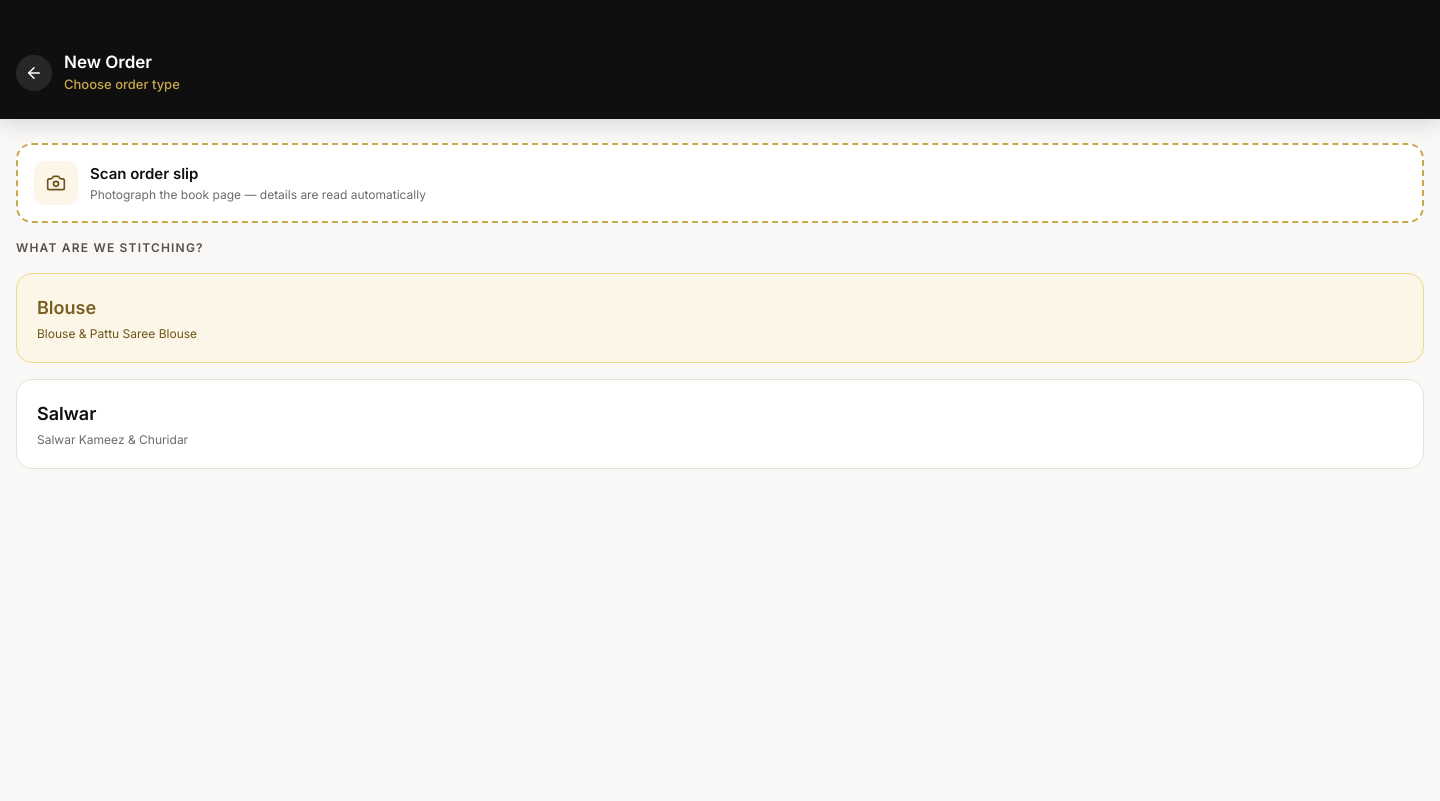
Test: NewOrderWizard › switches back to customer-supplied fabric details after visiting the shop picker
Click the text "Blouse" at (67, 307), box x1=37 y1=297 x2=96 y2=318
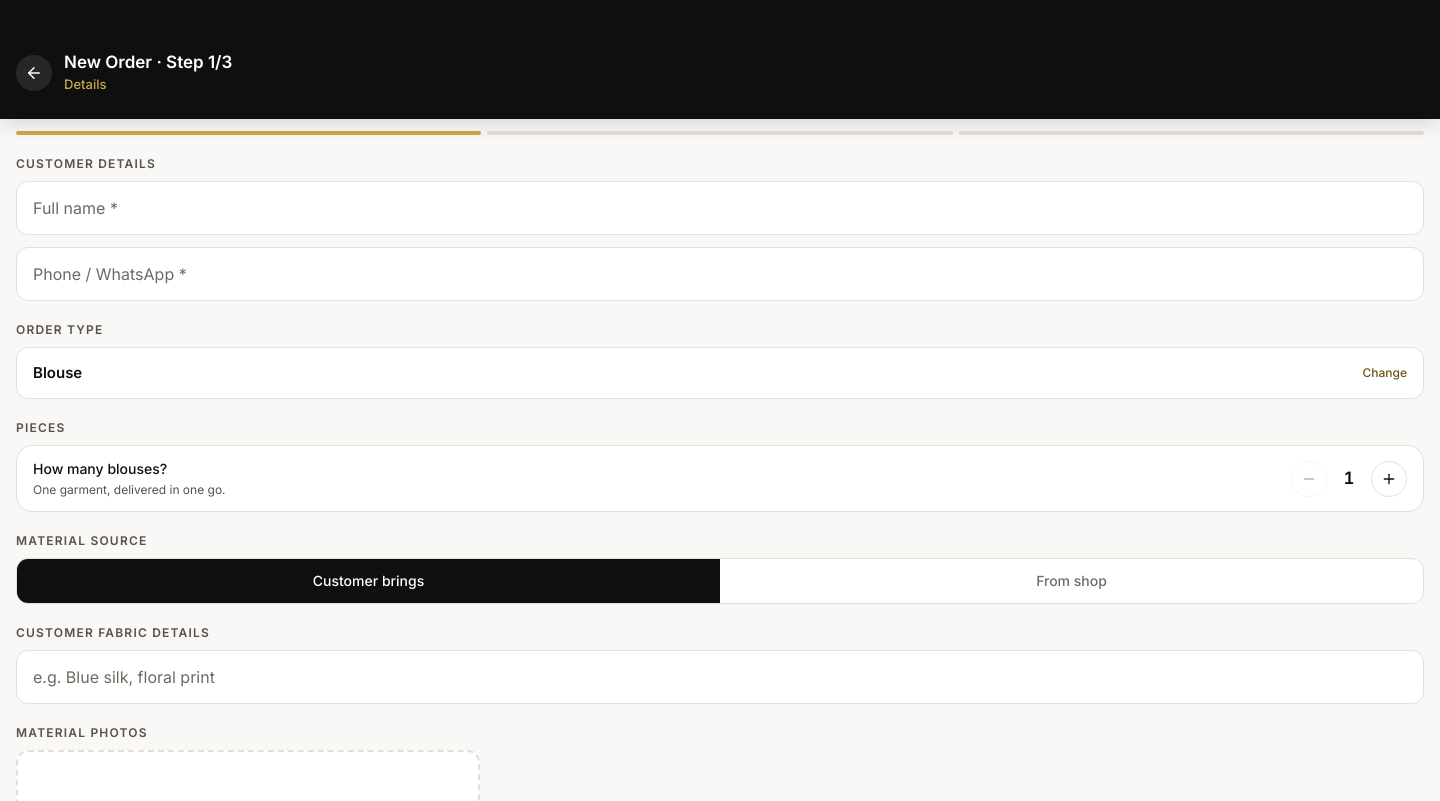
Click the button "From shop" at (1072, 581), box x1=720 y1=559 x2=1423 y2=603
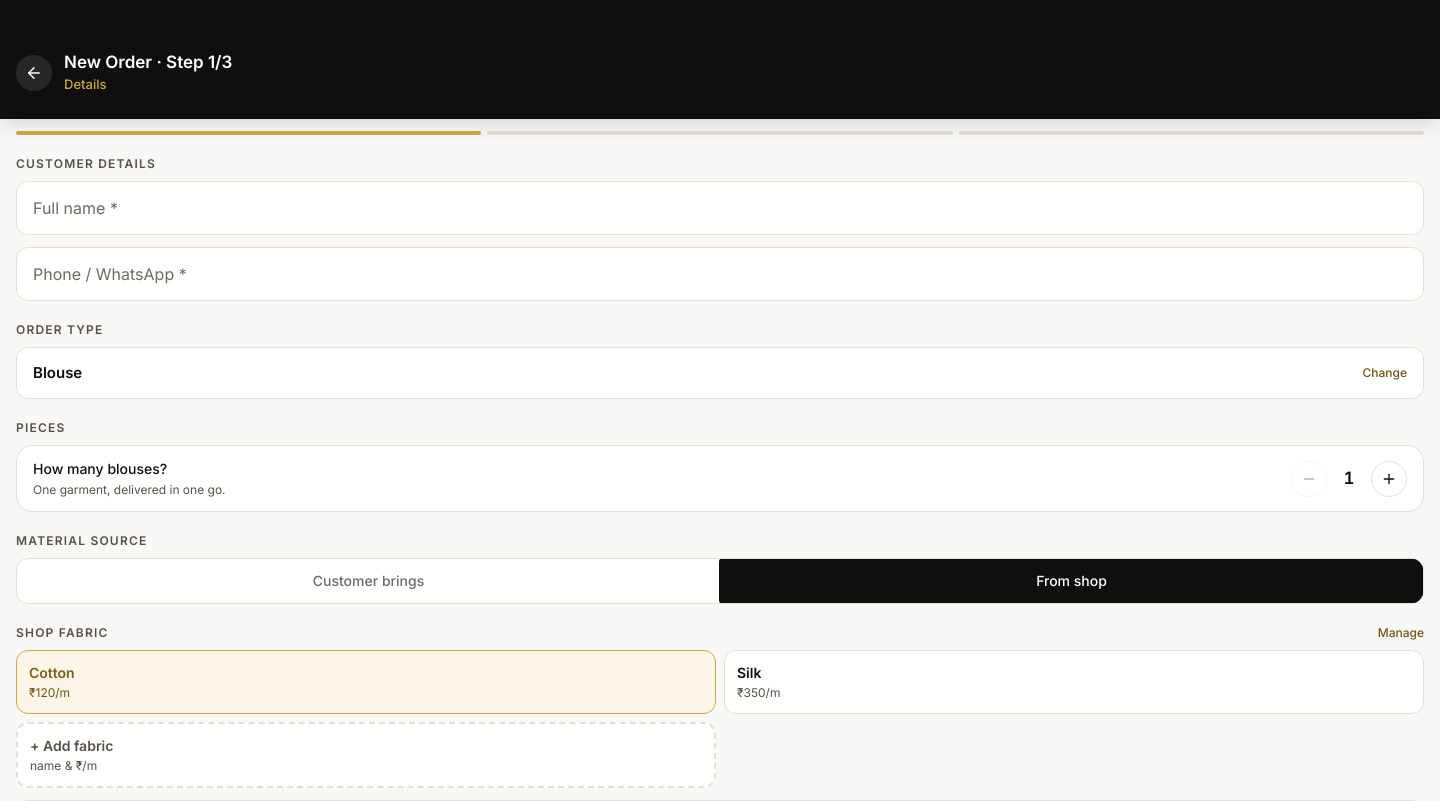
Check: the text "Customer fabric details" is gone
Click the button "Customer brings" at (368, 581), box x1=17 y1=559 x2=720 y2=603
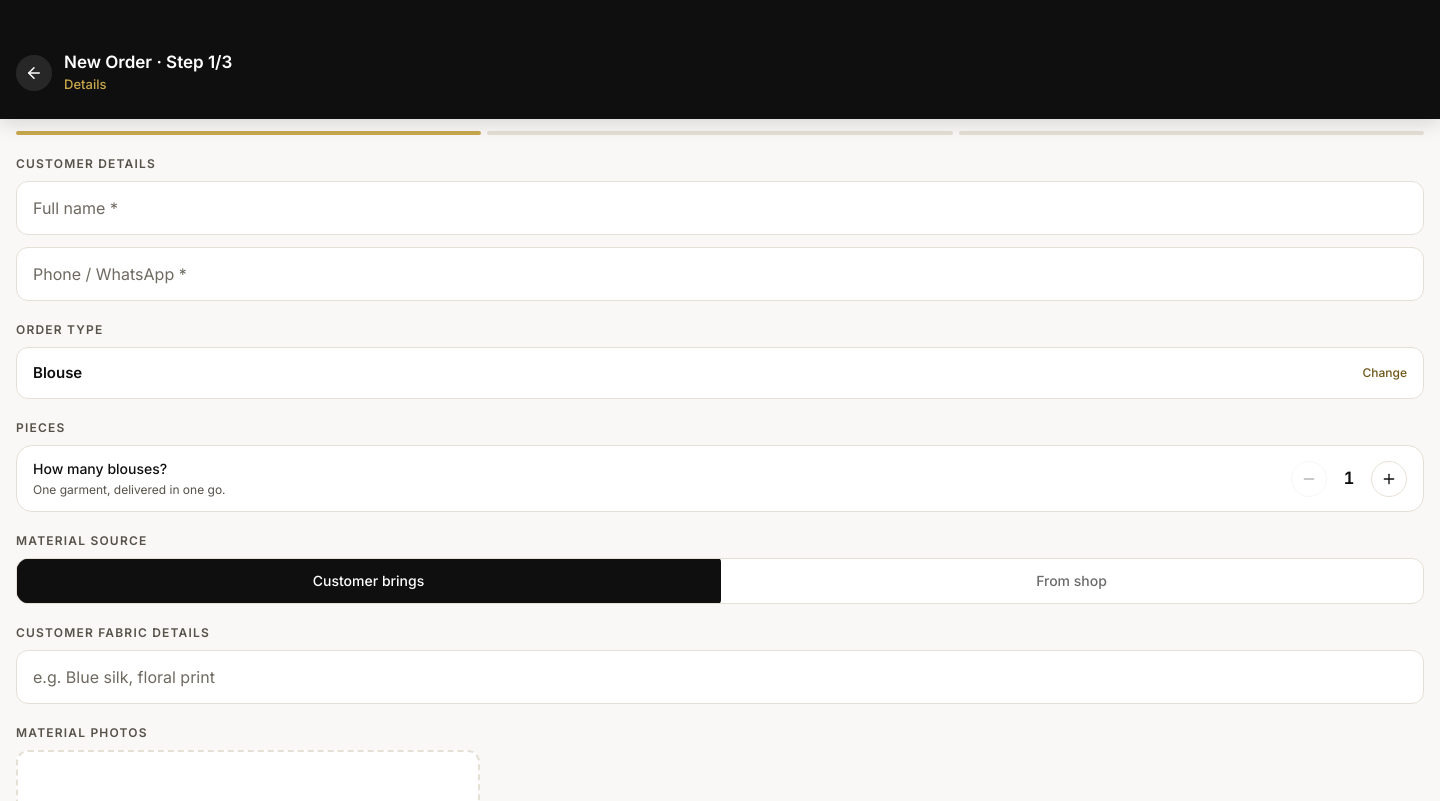
Check: the text "Customer fabric details" is shown, box x1=16 y1=625 x2=210 y2=640
Check: the text "Shop fabric" is gone
